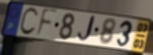3: (115, 19, 135, 49)
8: (99, 17, 117, 47), (58, 12, 76, 42)
C: (18, 7, 39, 37)
F: (34, 7, 59, 39)
J: (76, 14, 97, 44)
